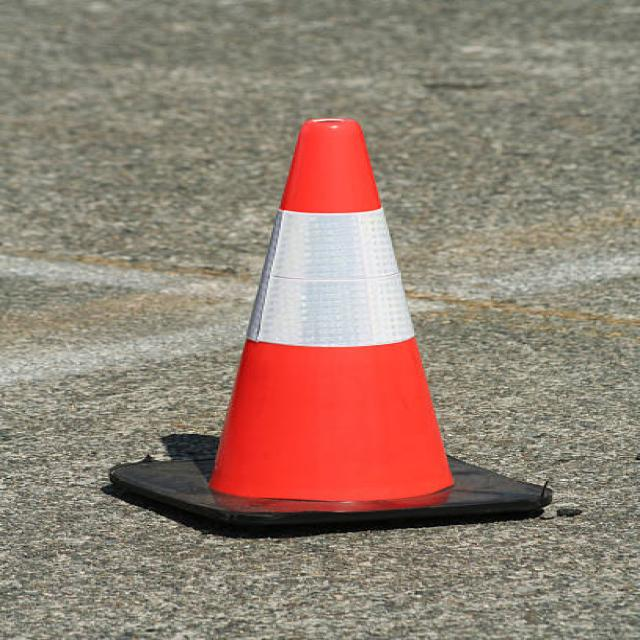Traffic Cone: (83, 92, 572, 551)
